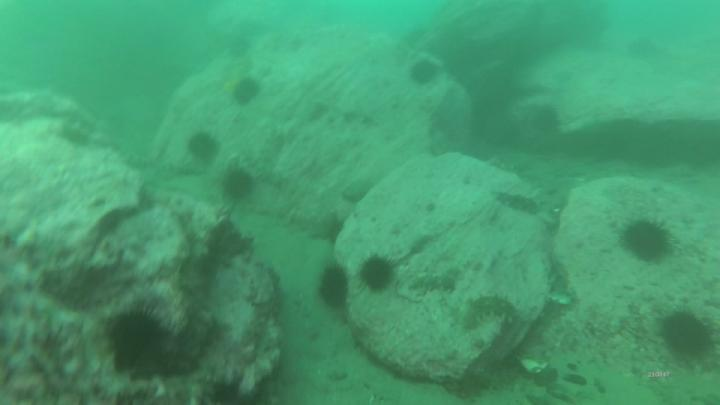echinus: (663, 314, 710, 359), (114, 315, 158, 358), (624, 221, 670, 262), (319, 267, 350, 306), (187, 132, 218, 161), (362, 258, 391, 289), (224, 172, 253, 199), (236, 83, 259, 107), (414, 62, 434, 81)
holothurian: (465, 298, 518, 327), (499, 191, 538, 219), (409, 272, 456, 294)
